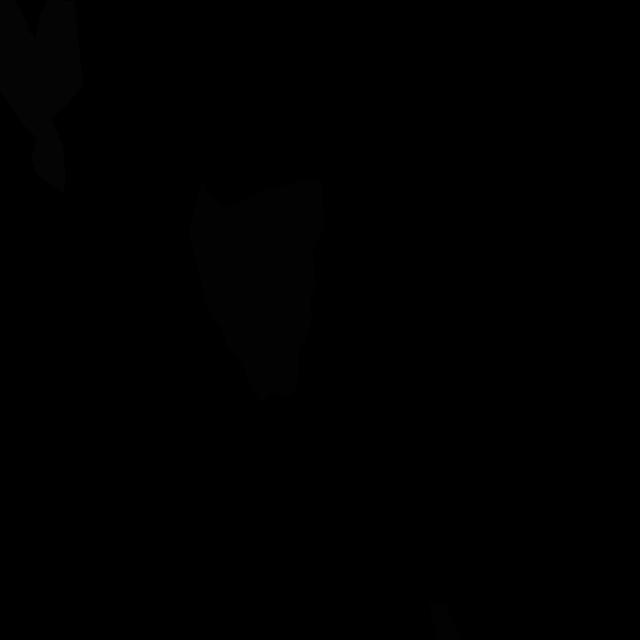cardboard: (193, 177, 324, 403), (188, 182, 224, 249), (430, 601, 461, 639)
